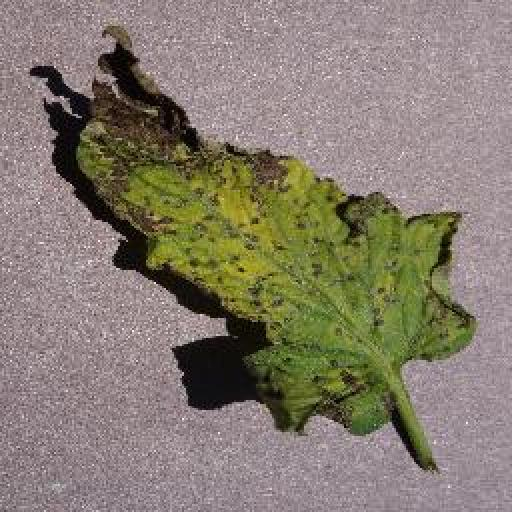disease_tomato: (78, 24, 480, 435)
